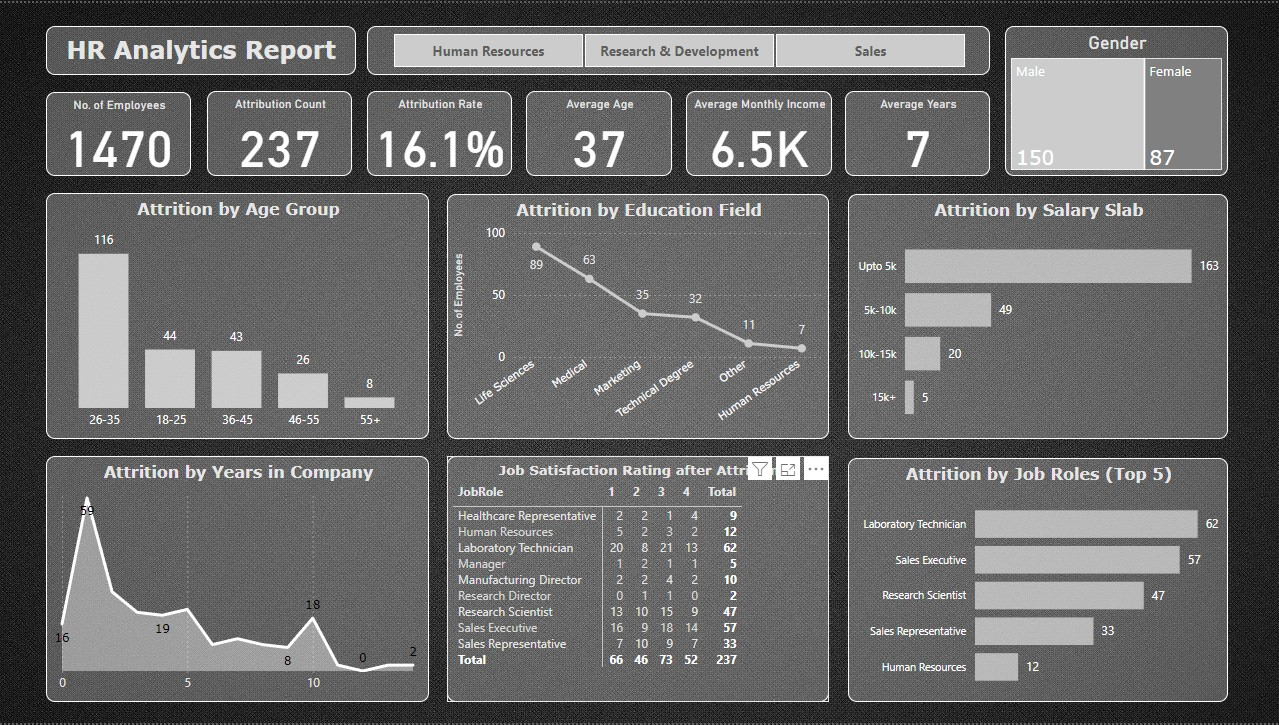

Layout of this report page (visuals, bound fields, positions):
{"tool":"powerbi","page":{"name":"Page 1","canvas":[1280,720],"ordinal":0},"visuals":[{"type":"textbox","box":[46.9,23,310.6,48.7],"z":0},{"type":"card","title":"No. of Employees","fields":{"Values":["Count(HR_Analytics.EmpID)"]},"box":[46.9,89.1,145.2,83.6],"z":1000},{"type":"card","title":"Attribution Count","fields":{"Values":["Sum(HR_Analytics.AttritionCount)"]},"box":[207.7,88.2,145.2,84.5],"z":2000},{"type":"card","title":"Attribution Rate","fields":{"Values":["HR_Analytics.Attrition Rate"]},"box":[367.6,88.2,145.2,84.5],"z":3000},{"type":"card","title":"Average Age","fields":{"Values":["Avg(HR_Analytics.Age)"]},"box":[527.4,88.2,145.2,84.5],"z":4000},{"type":"slicer","fields":{"Values":["HR_Analytics.Department"]},"box":[367.6,23,623.9,48.7],"z":5000},{"type":"columnChart","title":"Attrition by Age Group","fields":{"Category":["HR_Analytics.AgeGroup"],"Y":["Sum(HR_Analytics.AttritionCount)"]},"box":[46.9,190.2,383.1,245.5],"z":6000},{"type":"lineChart","title":"Attrition by Education Field","fields":{"Y":["Sum(HR_Analytics.AttritionCount)"],"Category":["HR_Analytics.EducationField"]},"box":[448.3,191.2,381.9,244.5],"z":7000},{"type":"barChart","title":"Attrition by Salary Slab","fields":{"Category":["HR_Analytics.SalarySlab"],"Y":["Sum(HR_Analytics.AttritionCount)"]},"box":[848.7,191.2,380.8,244.5],"z":8000},{"type":"card","title":"Average Monthly Income","fields":{"Values":["Avg(HR_Analytics.MonthlyIncome)"]},"box":[687.3,88.2,145.2,84.5],"z":9000},{"type":"card","title":"Average Years","fields":{"Values":["Avg(HR_Analytics.YearsAtCompany)"]},"box":[846.3,88.2,145.2,84.5],"z":10000},{"type":"areaChart","title":"Attrition by Years in Company","fields":{"Category":["HR_Analytics.YearsAtCompany"],"Y":["Sum(HR_Analytics.AttritionCount)"]},"box":[46.9,452.8,383.1,246.5],"z":11000},{"type":"pivotTable","title":"Job Satisfaction Rating after Attrition","fields":{"Rows":["HR_Analytics.JobRole"],"Columns":["HR_Analytics.JobSatisfaction"],"Values":["Sum(HR_Analytics.AttritionCount)"]},"box":[448.3,452.8,381.9,246.5],"z":12000},{"type":"barChart","title":"Attrition by Job Roles (Top 5)","fields":{"Category":["HR_Analytics.JobRole"],"Y":["Sum(HR_Analytics.AttritionCount)"]},"box":[848.7,454.8,380.8,244.5],"z":13000},{"type":"treemap","title":"Gender","fields":{"Values":["Sum(HR_Analytics.AttritionCount)"],"Group":["HR_Analytics.Gender"]},"box":[1006.2,23,223.3,149.8],"z":14000}]}

Visuals, with their boxes in screenshot pixels (x1, y1, x2, y2), scaled from the page's 1280x720 canvas onto the 1279x725 screenshot:
textbox: <region>47, 23, 357, 72</region>
"No. of Employees" card: <region>47, 90, 192, 174</region>
"Attribution Count" card: <region>208, 89, 353, 174</region>
"Attribution Rate" card: <region>367, 89, 512, 174</region>
"Average Age" card: <region>527, 89, 672, 174</region>
slicer - HR_Analytics.Department: <region>367, 23, 991, 72</region>
"Attrition by Age Group" columnChart: <region>47, 192, 430, 439</region>
"Attrition by Education Field" lineChart: <region>448, 193, 830, 439</region>
"Attrition by Salary Slab" barChart: <region>848, 193, 1229, 439</region>
"Average Monthly Income" card: <region>687, 89, 832, 174</region>
"Average Years" card: <region>846, 89, 991, 174</region>
"Attrition by Years in Company" areaChart: <region>47, 456, 430, 704</region>
"Job Satisfaction Rating after Attrition" pivotTable: <region>448, 456, 830, 704</region>
"Attrition by Job Roles (Top 5)" barChart: <region>848, 458, 1229, 704</region>
"Gender" treemap: <region>1005, 23, 1229, 174</region>
